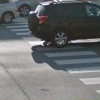crosswalk: (1, 22, 100, 93)
